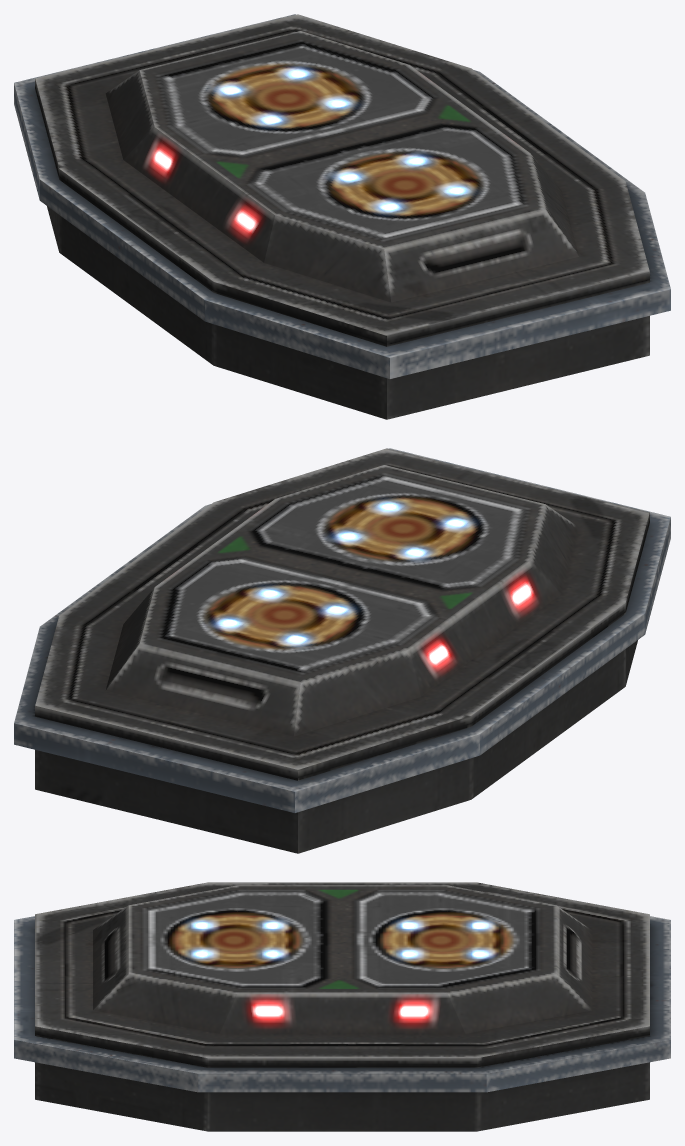
File: ScifiResourcePlatform.fbx
3 views of the same model, one above another, from view 1: azimuth 30°, elevation 25°; view 2: azimuth 150°, elevation 25°; view 3: azimuth 270°, elevation 25° (orthographic). The views are drawn at different scales.
Visible parts, largest first — view 1: ScifiResourcePlatform; view 2: ScifiResourcePlatform; view 3: ScifiResourcePlatform.
Boxes of the visible parts, bbox=[...] form: ScifiResourcePlatform: bbox=[14, 14, 670, 419]; ScifiResourcePlatform: bbox=[14, 448, 670, 853]; ScifiResourcePlatform: bbox=[14, 882, 670, 1131].
Bounding box in the file's own units: 3214 × 829 × 4752.
